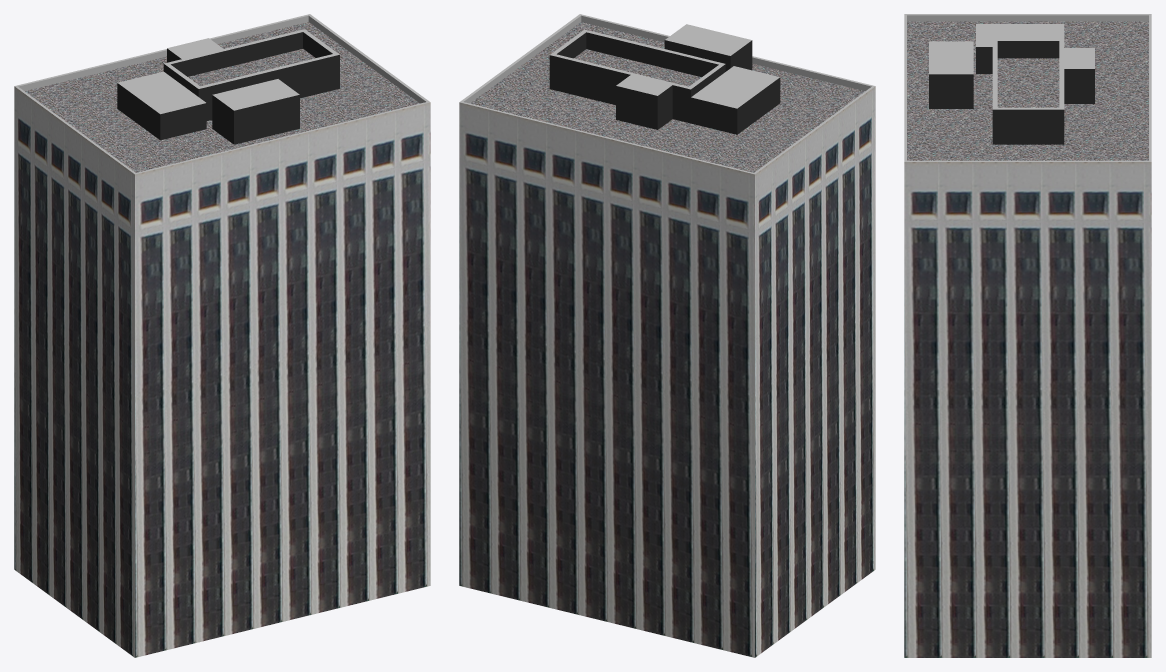
The model's file is CPL5.FBX.
3 renders of one model, left to right at view 1: azimuth 30°, elevation 25°; view 2: azimuth 150°, elevation 25°; view 3: azimuth 270°, elevation 25°, orthographic. The views are drawn at different scales.
Parts seen in each view (by area): view 1: CPL; view 2: CPL; view 3: CPL.
Boxes of the visible parts, left/top/right/bottom form: CPL: left=14, top=14, right=430, bottom=657; CPL: left=459, top=14, right=875, bottom=657; CPL: left=904, top=14, right=1151, bottom=657.
Size of the model in its own units: 6428 by 10616 by 4543.
4 materials, 2 textured.
